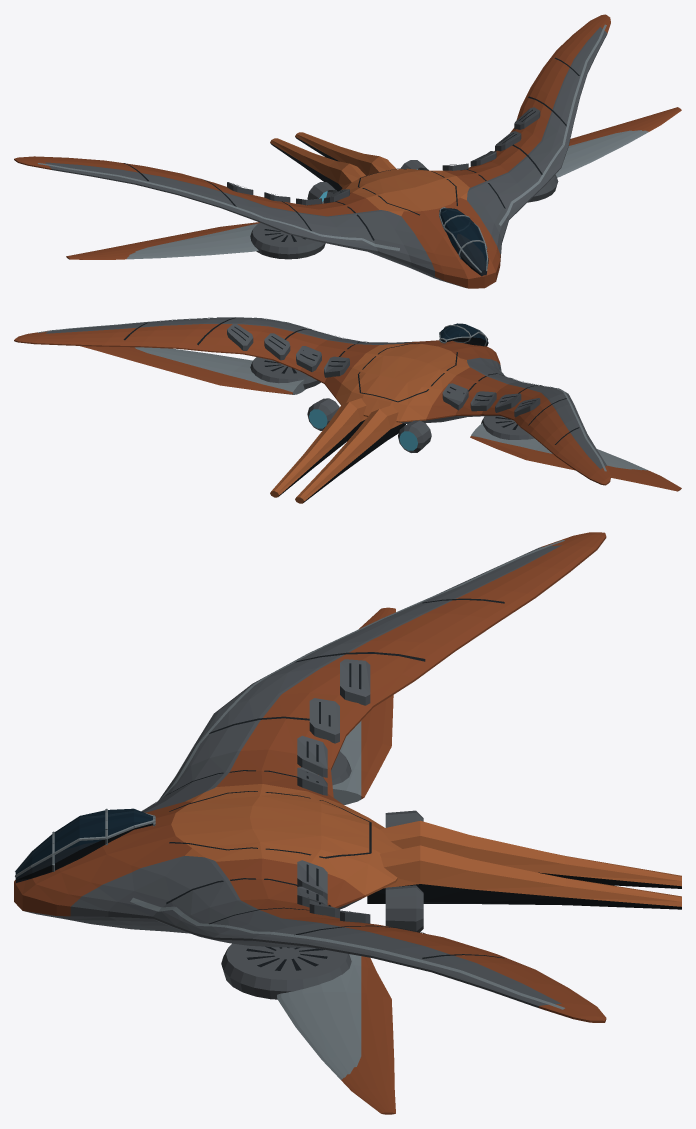
The model's file is Benatar.obj.
The picture shows the model from 3 angles, top to bottom: view 1: azimuth 30°, elevation 25°; view 2: azimuth 150°, elevation 25°; view 3: azimuth 270°, elevation 25°; orthographic projection. The views are drawn at different scales.
Visible parts, largest first — view 1: Benatar_|_casco_y_alas_originales_refinados, Benatar_|_aleta_inferior_2, Benatar_|_aleta_inferior_3, Benatar_|_cola_doble_5, Benatar_|_cabina_acristalada, Benatar_|_carcasa_de_turbina_0, Benatar_|_cola_doble_6, Benatar_|_borde_de_ataque_-1, Benatar_|_borde_de_ataque_1; view 2: Benatar_|_casco_y_alas_originales_refinados, Benatar_|_aleta_inferior_3, Benatar_|_cola_doble_5, Benatar_|_aleta_inferior_2, Benatar_|_cola_doble_6, Benatar_|_carcasa_de_turbina_1, Benatar_|_carcasa_de_turbina_0, Benatar_|_cabina_acristalada, Benatar_|_tobera_-1, Benatar_|_modulo_mecanico_de_ala_-1_0, Benatar_|_modulo_mecanico_de_ala_1_1, Benatar_|_modulo_mecanico_de_ala_1_2 (+6 smaller); view 3: Benatar_|_casco_y_alas_originales_refinados, Benatar_|_aleta_inferior_3, Benatar_|_cola_doble_6, Benatar_|_cola_doble_5, Benatar_|_carcasa_de_turbina_1, Benatar_|_cabina_acristalada, Benatar_|_aleta_inferior_2, Benatar_|_tobera_1, Benatar_|_borde_de_ataque_1, Benatar_|_modulo_mecanico_de_ala_-1_3, Benatar_|_modulo_mecanico_de_ala_-1_2, Benatar_|_borde_de_ataque_-1 (+1 smaller).
Part boxes in pixels (x1,y1,x2,y2): Benatar_|_casco_y_alas_originales_refinados: [14, 14, 610, 288]; Benatar_|_aleta_inferior_2: [66, 222, 259, 259]; Benatar_|_aleta_inferior_3: [555, 107, 681, 177]; Benatar_|_cola_doble_5: [270, 138, 365, 191]; Benatar_|_cabina_acristalada: [440, 208, 488, 276]; Benatar_|_carcasa_de_turbina_0: [250, 223, 325, 259]; Benatar_|_cola_doble_6: [295, 132, 396, 175]; Benatar_|_borde_de_ataque_-1: [38, 163, 399, 250]; Benatar_|_borde_de_ataque_1: [499, 24, 606, 225]; Benatar_|_casco_y_alas_originales_refinados: [14, 317, 610, 485]; Benatar_|_aleta_inferior_3: [80, 346, 305, 394]; Benatar_|_cola_doble_5: [295, 405, 405, 503]; Benatar_|_aleta_inferior_2: [470, 423, 681, 491]; Benatar_|_cola_doble_6: [270, 398, 367, 497]; Benatar_|_carcasa_de_turbina_1: [250, 357, 320, 388]; Benatar_|_carcasa_de_turbina_0: [481, 416, 534, 439]; Benatar_|_cabina_acristalada: [440, 323, 488, 346]; Benatar_|_tobera_-1: [398, 420, 431, 452]; Benatar_|_modulo_mecanico_de_ala_-1_0: [442, 383, 468, 410]; Benatar_|_modulo_mecanico_de_ala_1_1: [296, 346, 321, 371]; Benatar_|_modulo_mecanico_de_ala_1_2: [264, 333, 290, 360]; Benatar_|_casco_y_alas_originales_refinados: [14, 532, 606, 1022]; Benatar_|_aleta_inferior_3: [277, 954, 395, 1114]; Benatar_|_cola_doble_6: [367, 845, 681, 909]; Benatar_|_cola_doble_5: [380, 820, 681, 888]; Benatar_|_carcasa_de_turbina_1: [221, 943, 351, 999]; Benatar_|_cabina_acristalada: [15, 808, 152, 882]; Benatar_|_aleta_inferior_2: [332, 607, 395, 804]; Benatar_|_tobera_1: [385, 885, 423, 932]; Benatar_|_borde_de_ataque_1: [130, 897, 564, 1009]; Benatar_|_modulo_mecanico_de_ala_-1_3: [340, 659, 370, 705]; Benatar_|_modulo_mecanico_de_ala_-1_2: [309, 698, 339, 743]; Benatar_|_borde_de_ataque_-1: [141, 540, 564, 811].
Size of the model in its own units: 19.6 by 2.48 by 10.96.
